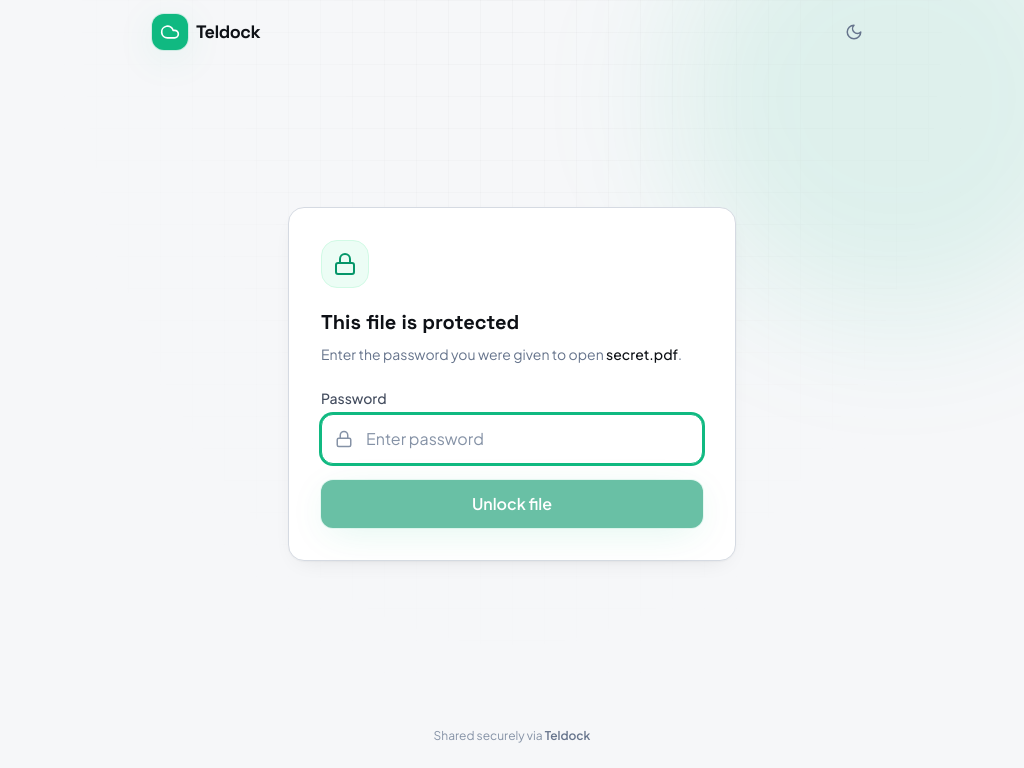
Test: ShareAccess › shows an inline error and keeps the form when the password is wrong
expect the heading "This file is protected" is shown: met, box top-left (321, 309), bottom-right (519, 335)
Type "wrong-password" into the password field labelled "Password". click: (512, 439)
box: top-left (321, 414), bottom-right (703, 464)
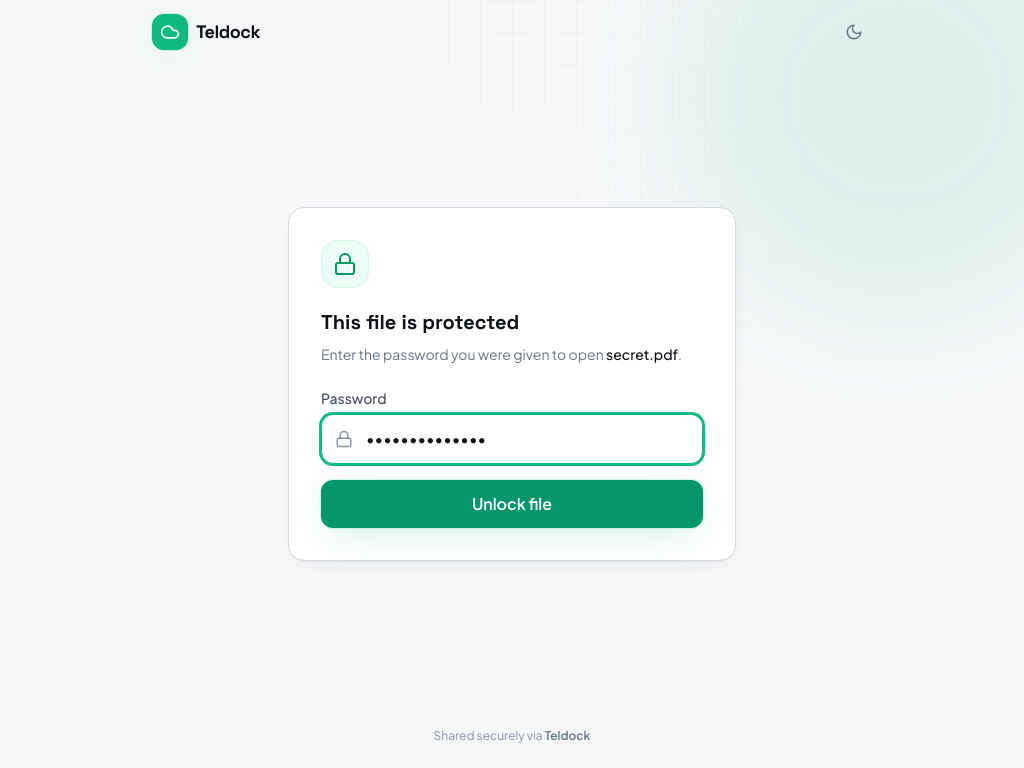
Click the button "Unlock file". click: (512, 504)
box: top-left (321, 480), bottom-right (703, 528)
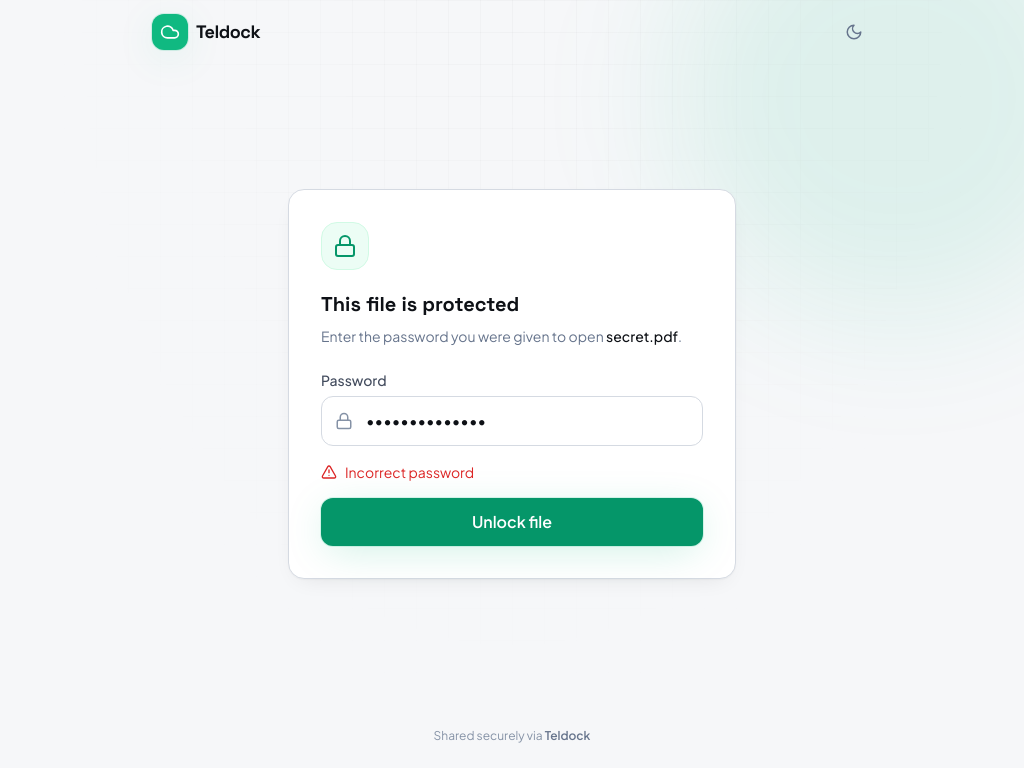
expect the button "Unlock file" is shown: met, box top-left (321, 498), bottom-right (703, 546)
expect the message reads "Incorrect password": met, box top-left (345, 463), bottom-right (474, 481)
